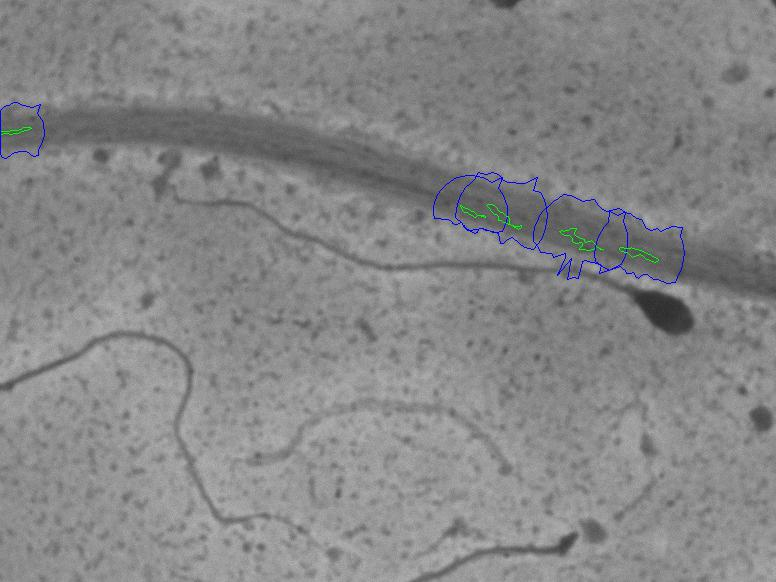Normal: (163, 185, 702, 347)
